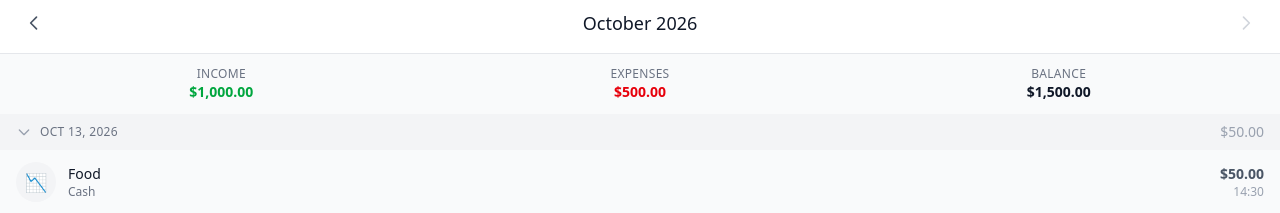
Test: TransactionList › collapsible sections › clicking date header collapses expanded section
expect the text "Food" is shown: met, box [68, 164, 101, 183]
// Find the clickable date header (parent of the date text)
What coordinates should you click on to do the following:
click the element showing "Oct 13, 2026 $50.00"
I would click on:
 (640, 132)
Its box is [0, 114, 1279, 150].
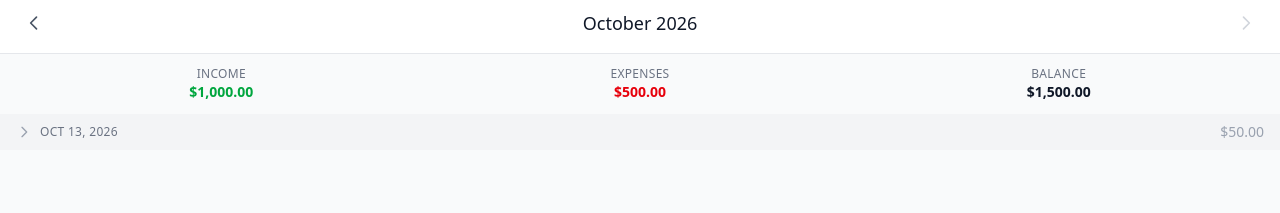
expect the button "Food" is gone: met
